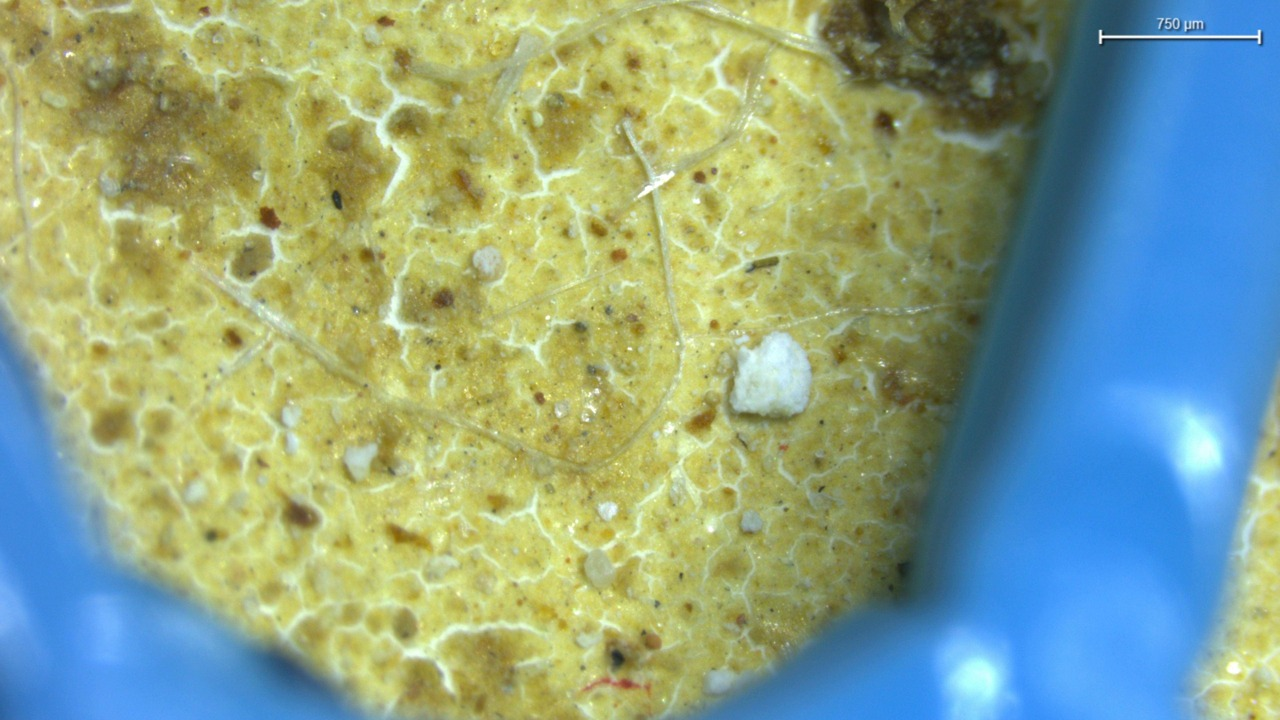microplastic_fragment: (729, 332, 812, 417)
